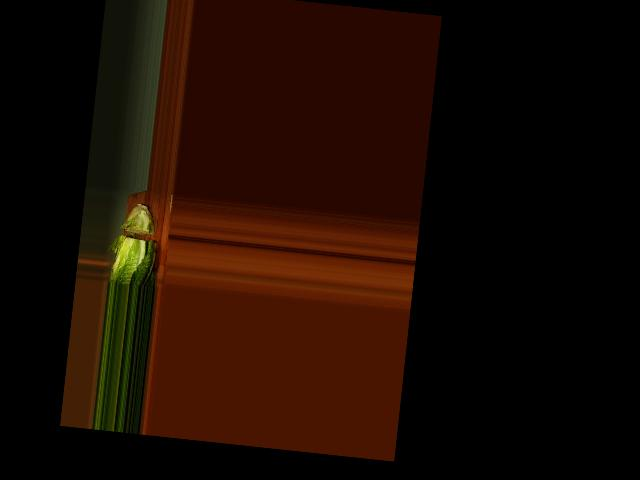lettuce: (106, 202, 166, 286)
